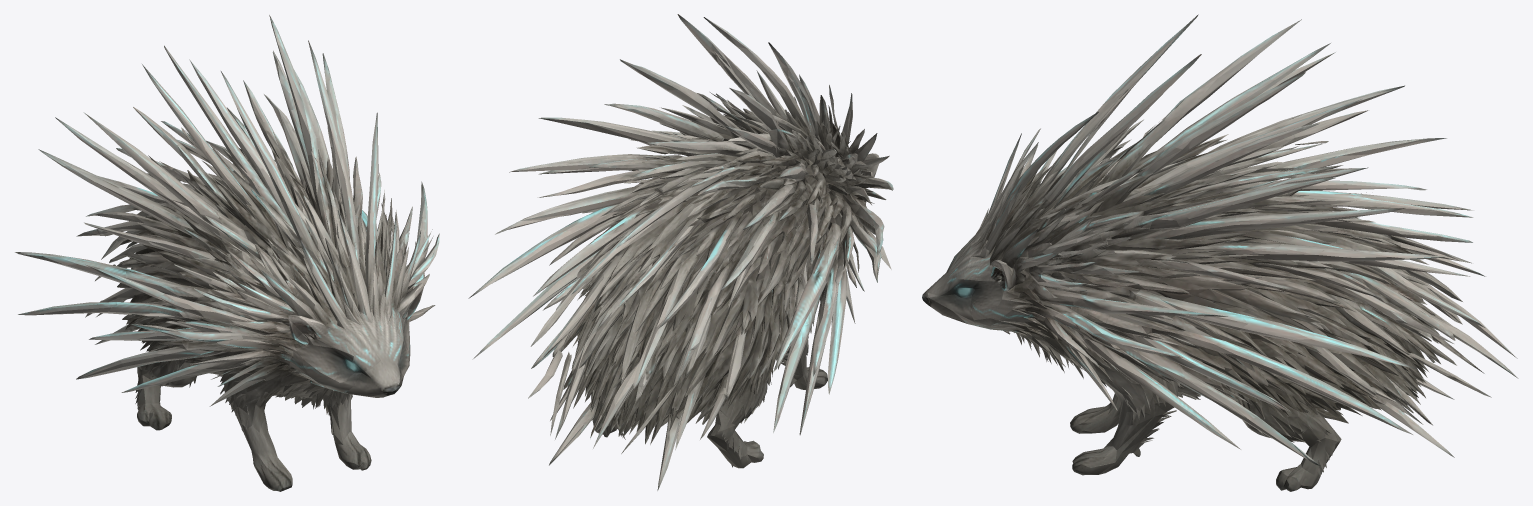
File: cliffspike_a.glb
3 renders of one model, left to right at view 1: azimuth 30°, elevation 25°; view 2: azimuth 150°, elevation 25°; view 3: azimuth 270°, elevation 25°, orthographic. The views are drawn at different scales.
Parts seen in each view (by area): view 1: Mesh_0; view 2: Mesh_0; view 3: Mesh_0.
Boxes of the visible parts, bbox=[...] form: Mesh_0: bbox=[15, 15, 439, 491]; Mesh_0: bbox=[468, 14, 893, 490]; Mesh_0: bbox=[922, 14, 1518, 491].
Size of the model in its own units: 1.34 by 1.48 by 1.9.
1 material, 1 textured.
